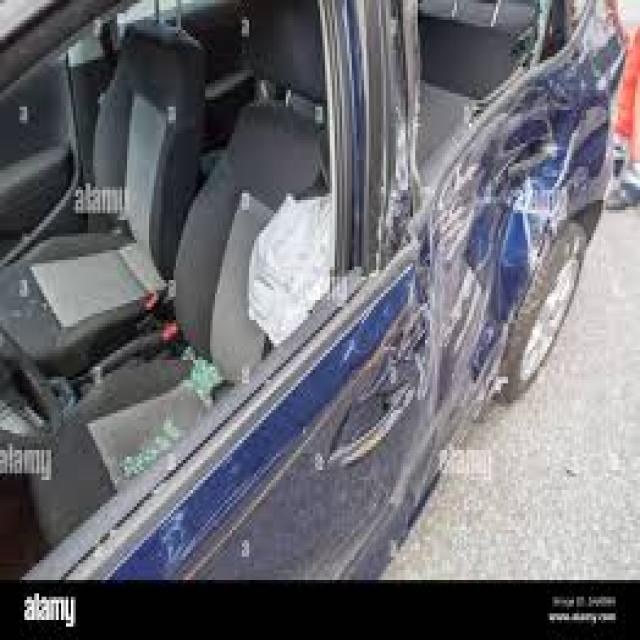damaged-door: (378, 0, 596, 435)
